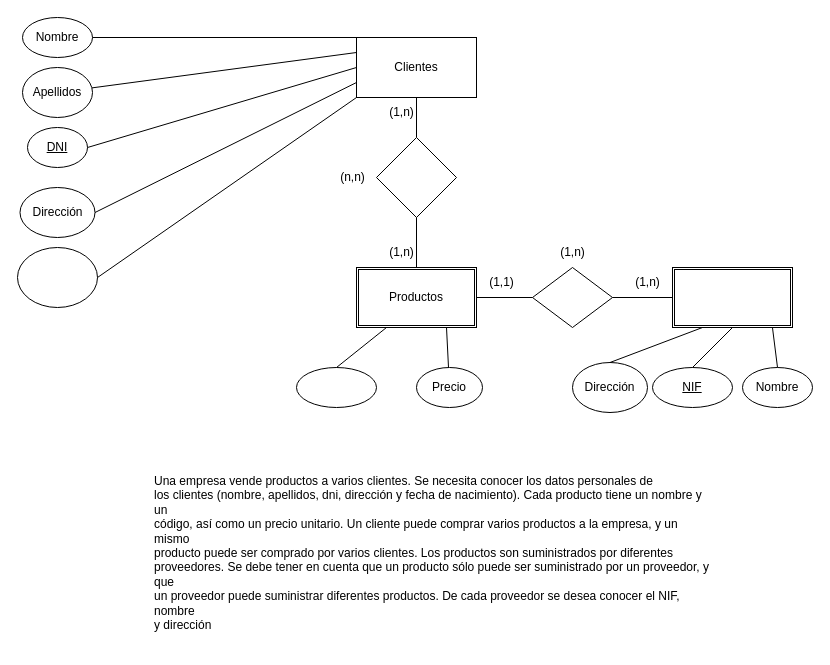
The diagram is 830 pixels wide and 665 high, and some of its shapes have lost their labels. The shapes that lost their labels are listed below. From the top down, each one's centre as x and y in pixels, then its label:
At (416,177): "Compran".
At (57,277): "Fecha de nacimiento".
At (572,297): "Suministran".
At (732,297): "Proveedores".
At (336,387): "Código".
